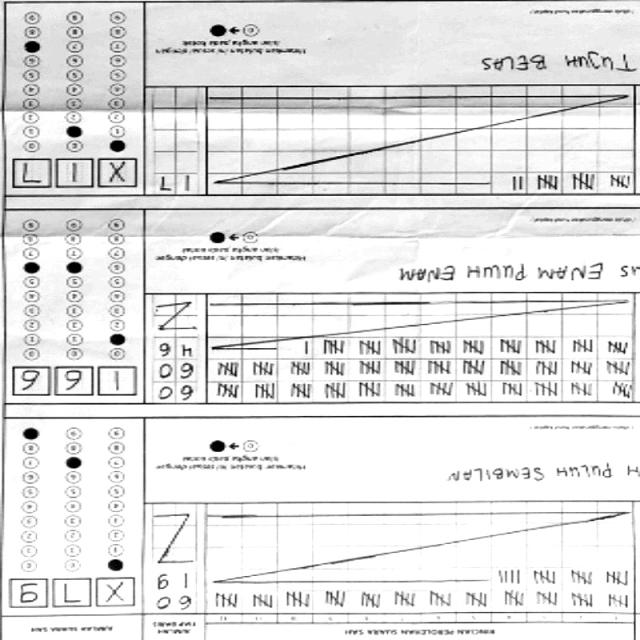Suara: (10, 361, 142, 400), (13, 156, 144, 195), (8, 576, 139, 614)
